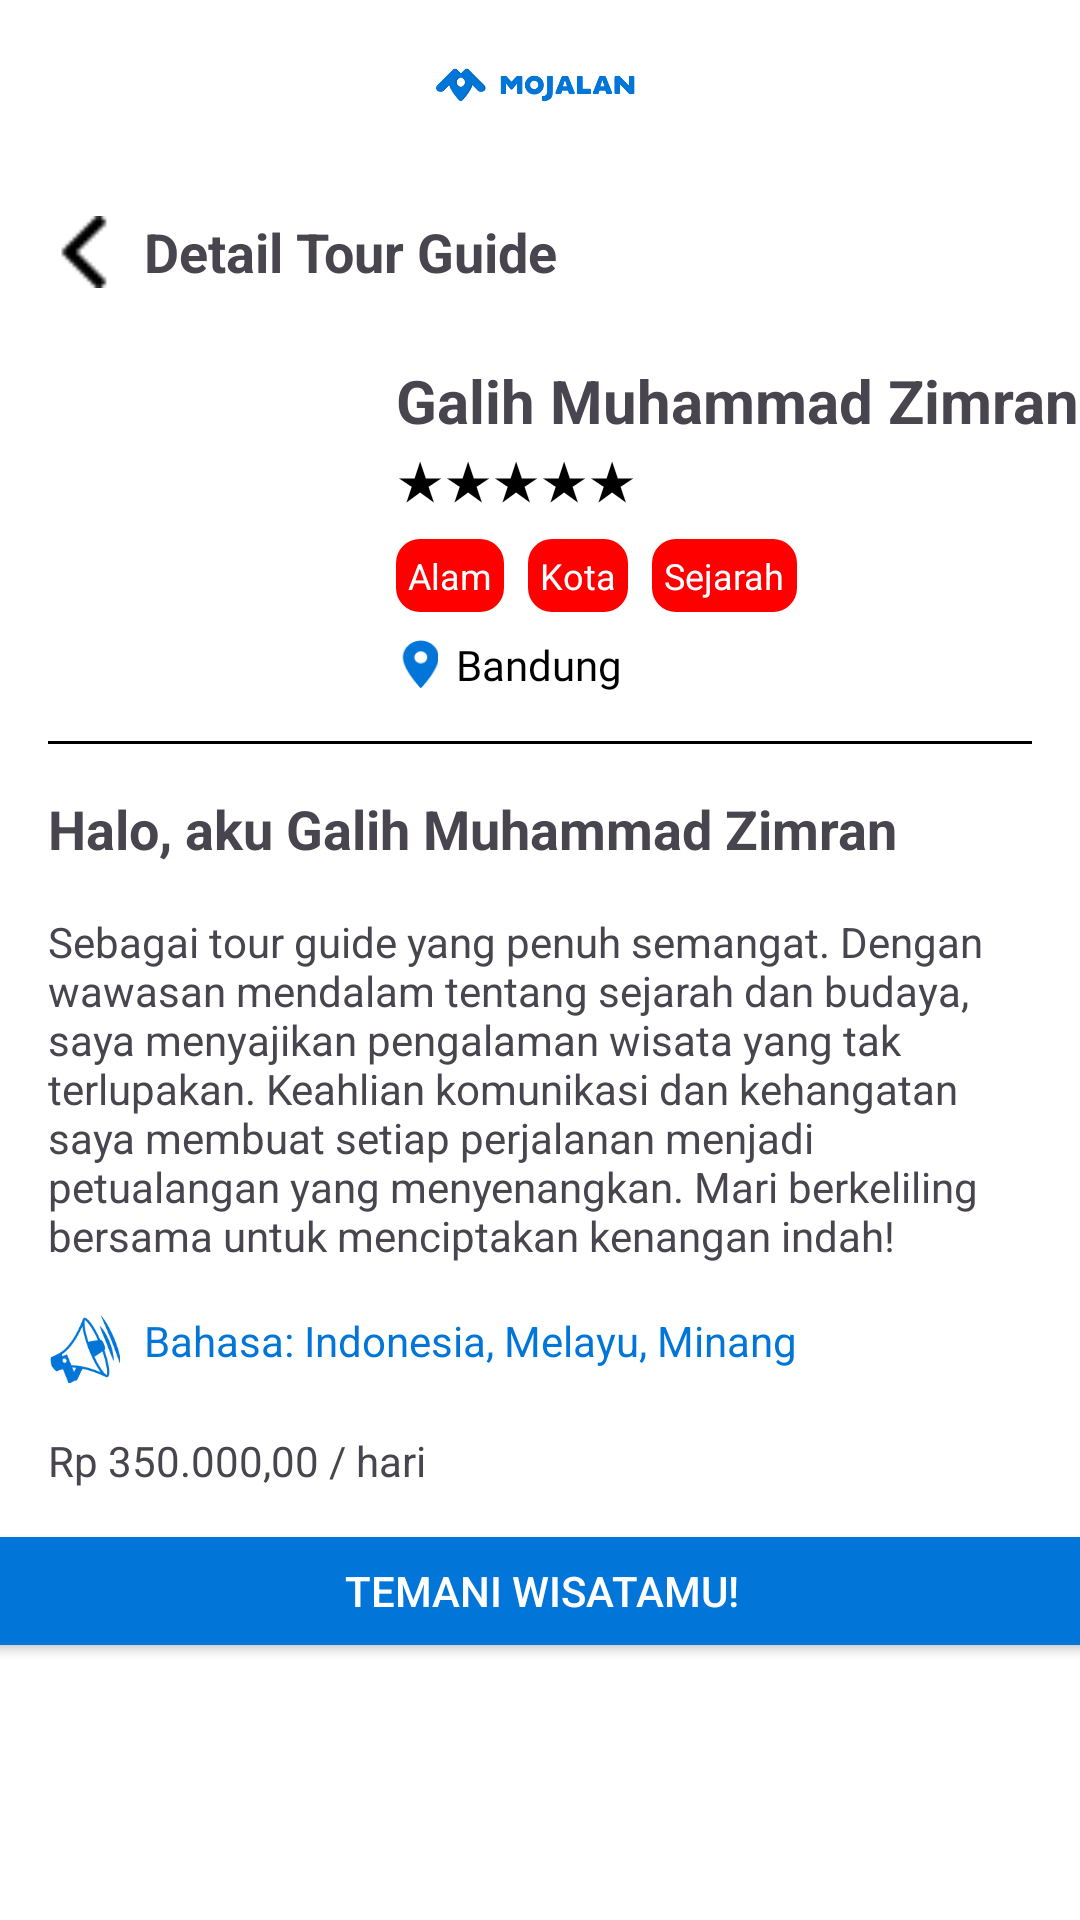

Icon click points for this 1080x1920 phone screenshot, format (x=x, y=y):
back: (x=84, y=252)
location: (x=420, y=664)
